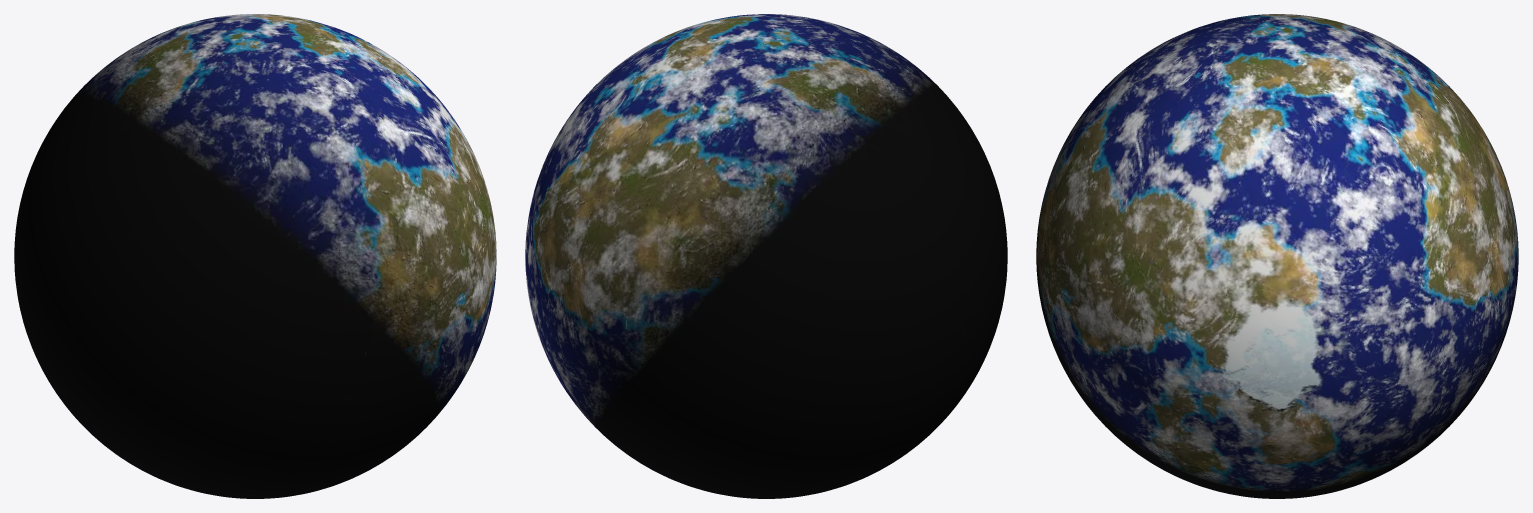
File: earth-planet.glb
3 views of the same model, side by side, from view 1: azimuth 30°, elevation 25°; view 2: azimuth 150°, elevation 25°; view 3: azimuth 270°, elevation 25° (orthographic).
Parts seen in each view (by area): view 1: Object_4; view 2: Object_4; view 3: Object_4.
Part boxes in pixels (x1=…): Object_4: x1=14, y1=14, x2=496, y2=498; Object_4: x1=525, y1=14, x2=1007, y2=498; Object_4: x1=1036, y1=14, x2=1518, y2=498.
Size of the model in its own units: 1.97 by 2 by 1.97.
Materials: 1 (1 with a texture image).
